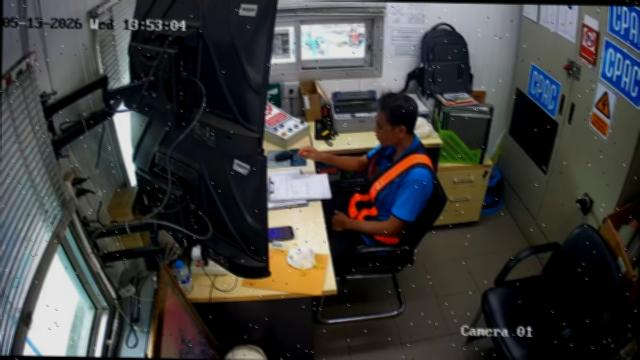Head: (373, 94, 418, 145)
People: (297, 94, 435, 270)
Phone: (266, 227, 295, 241)
